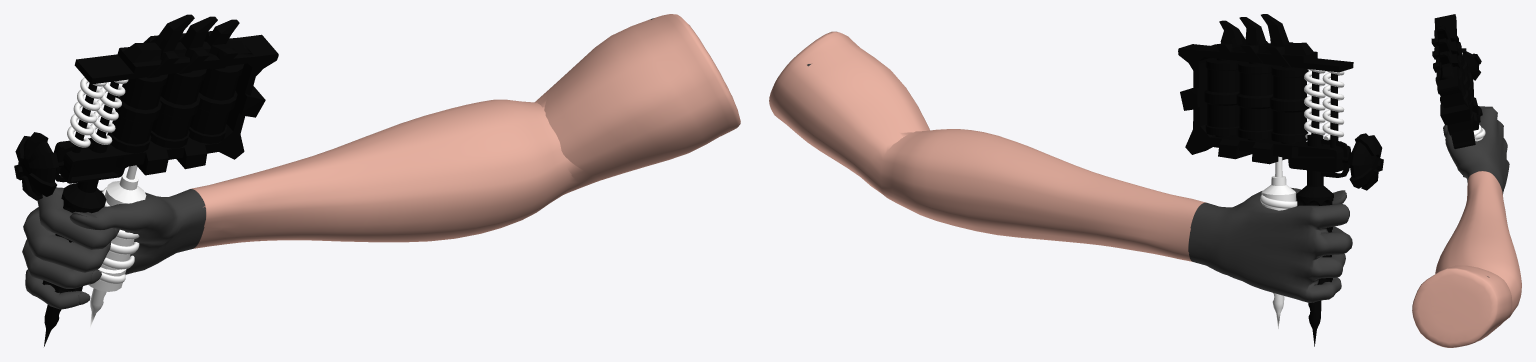
File: npc_Tatgun06.fbx
3 views of the same model, side by side, from view 1: azimuth 30°, elevation 25°; view 2: azimuth 150°, elevation 25°; view 3: azimuth 270°, elevation 25° (orthographic). The views are drawn at different scales.
Parts seen in each view (by area): view 1: tatgun06; view 2: tatgun06; view 3: tatgun06.
Part boxes in pixels (left/top/right/bottom): tatgun06: left=14, top=14, right=740, bottom=346; tatgun06: left=769, top=14, right=1383, bottom=346; tatgun06: left=1412, top=14, right=1521, bottom=347.
Bounding box in the file's own units: 421 × 194 × 90.94.
Materials: 2 (1 with a texture image).
